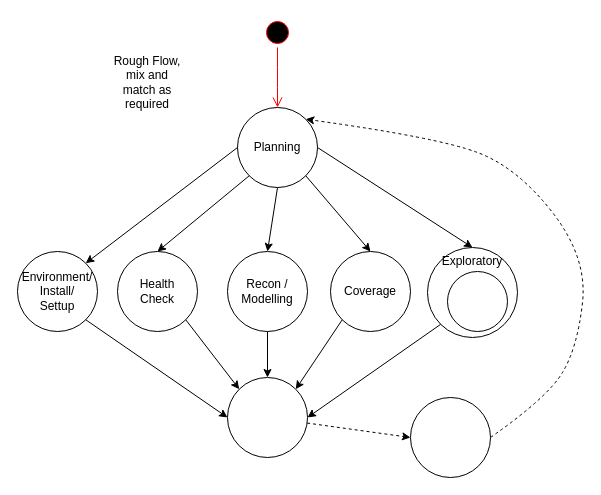
The diagram is 601 pixels wide and 495 high, and some of its shapes have lost their labels. The shapes that lost their labels are listed below. From the top down, each one's centre as x and y in pixels, then its label:
point (477, 301): Technical
point (267, 417): Debrief
point (450, 437): Admin
